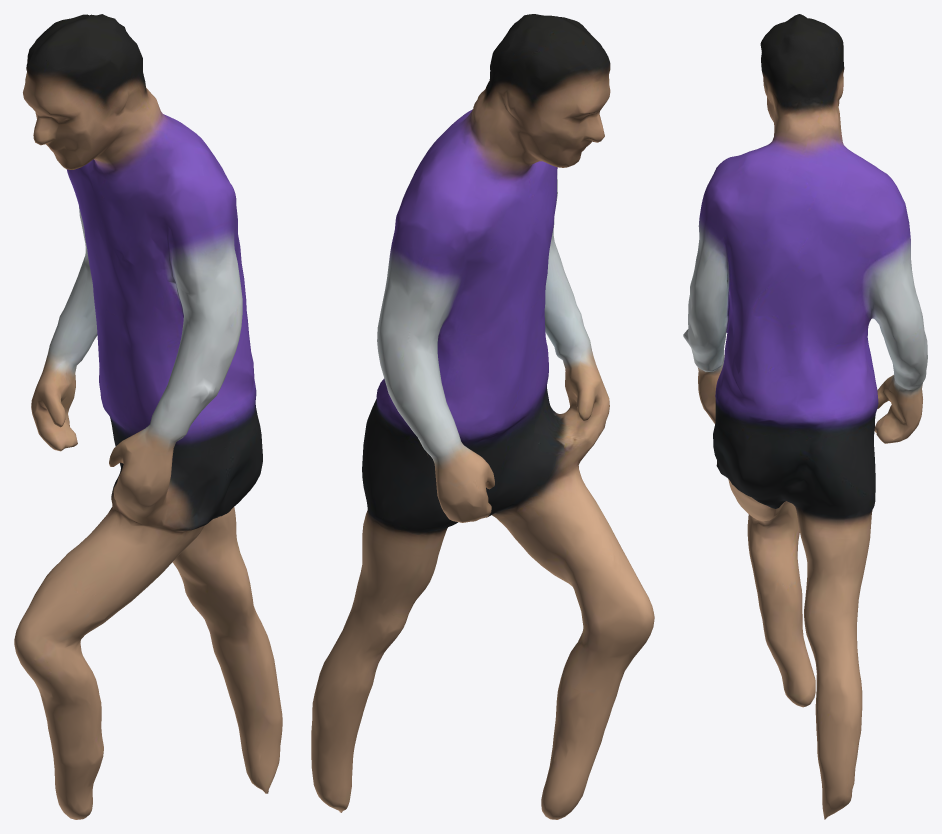
File: supporter-013.glb
3 views of the same model, side by side, from view 1: azimuth 30°, elevation 25°; view 2: azimuth 150°, elevation 25°; view 3: azimuth 270°, elevation 25° (orthographic). The views are drawn at different scales.
Parts seen in each view (by area): view 1: tripo_node_46bd07e7-8b87-42f4-af49-5b5f99672af0; view 2: tripo_node_46bd07e7-8b87-42f4-af49-5b5f99672af0; view 3: tripo_node_46bd07e7-8b87-42f4-af49-5b5f99672af0.
Part boxes in pixels (x1=…): tripo_node_46bd07e7-8b87-42f4-af49-5b5f99672af0: x1=14, y1=14, x2=282, y2=819; tripo_node_46bd07e7-8b87-42f4-af49-5b5f99672af0: x1=311, y1=14, x2=654, y2=819; tripo_node_46bd07e7-8b87-42f4-af49-5b5f99672af0: x1=683, y1=14, x2=927, y2=819.
Bounding box in the file's own units: 0.6602 × 1.75 × 0.5418.
Materials: 1 (1 with a texture image).
